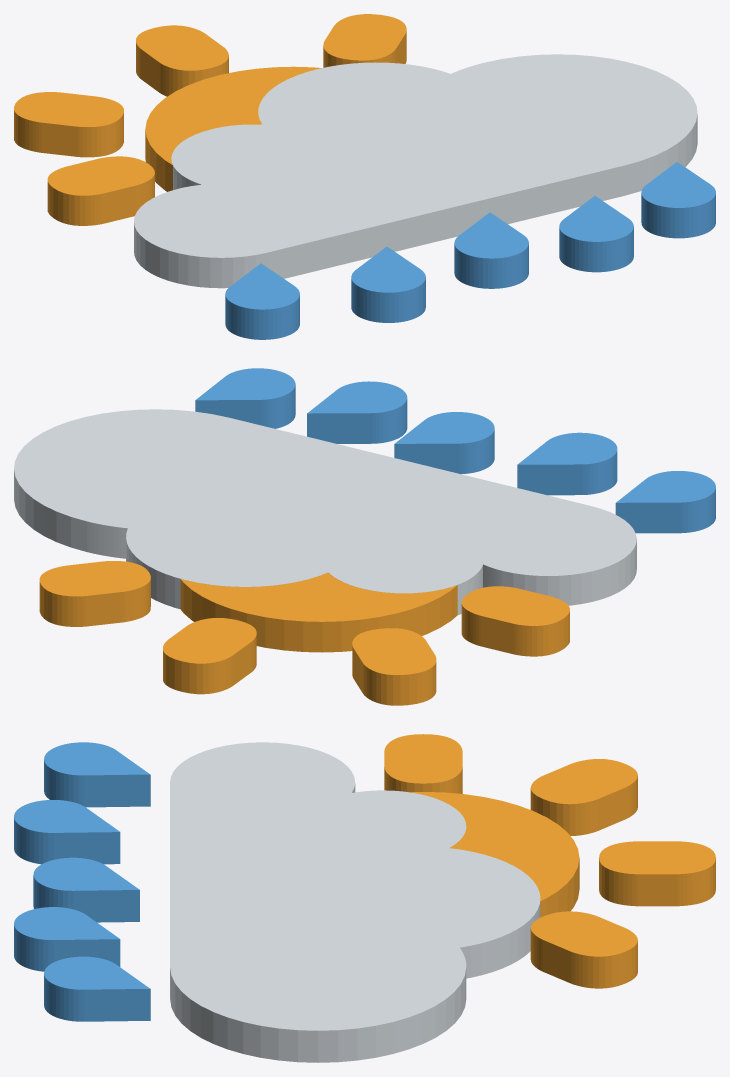
Rendered from showers.gltf.
3 views of the same model, one above another, from view 1: azimuth 30°, elevation 25°; view 2: azimuth 150°, elevation 25°; view 3: azimuth 270°, elevation 25° (orthographic). The views are drawn at different scales.
Parts seen in each view (by area): view 1: Curve.002, Curve.003, Curve, Curve.001; view 2: Curve.002, Curve.003, Curve, Curve.001; view 3: Curve.002, Curve.003, Curve, Curve.001.
Boxes of the visible parts, box(x1,y1,x2,y2) form: Curve.002: box(134, 54, 697, 288); Curve.003: box(225, 162, 715, 339); Curve: box(14, 14, 406, 225); Curve.001: box(145, 66, 321, 191); Curve.002: box(14, 409, 636, 614); Curve.003: box(195, 368, 715, 533); Curve: box(39, 561, 569, 705); Curve.001: box(180, 572, 457, 652); Curve.002: box(170, 742, 540, 1062); Curve.003: box(14, 742, 150, 1021); Curve: box(384, 734, 715, 988); Curve.001: box(411, 792, 579, 917).
Bounding box in the file's own units: 1.99 × 0.1 × 1.99.
